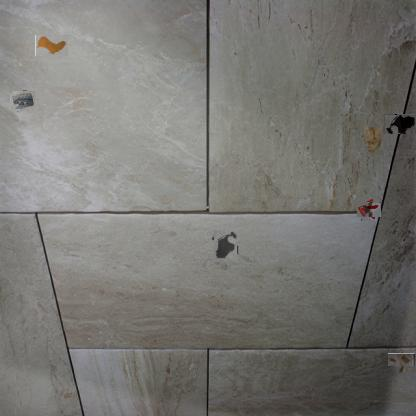dirty: (35, 34, 68, 56), (364, 125, 386, 155), (10, 90, 34, 112), (391, 350, 412, 370), (360, 200, 380, 220)
liquid: (212, 232, 238, 258), (384, 114, 416, 134)
